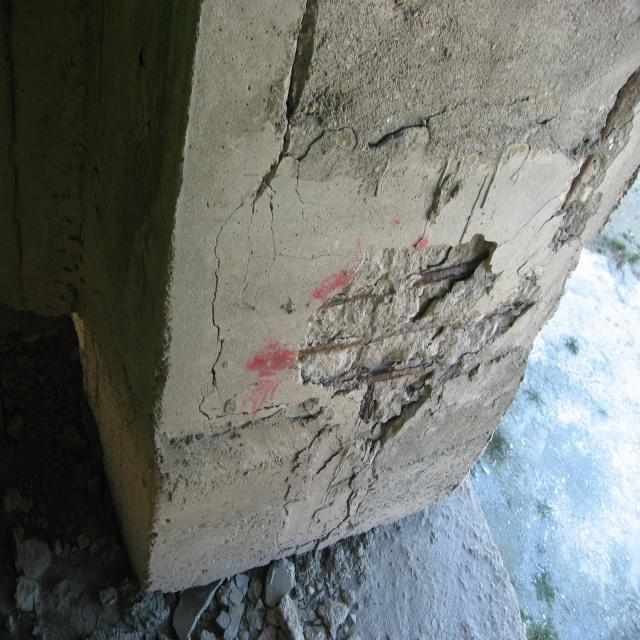corrosion: (299, 322, 458, 441), (408, 246, 499, 292), (320, 288, 397, 322)
